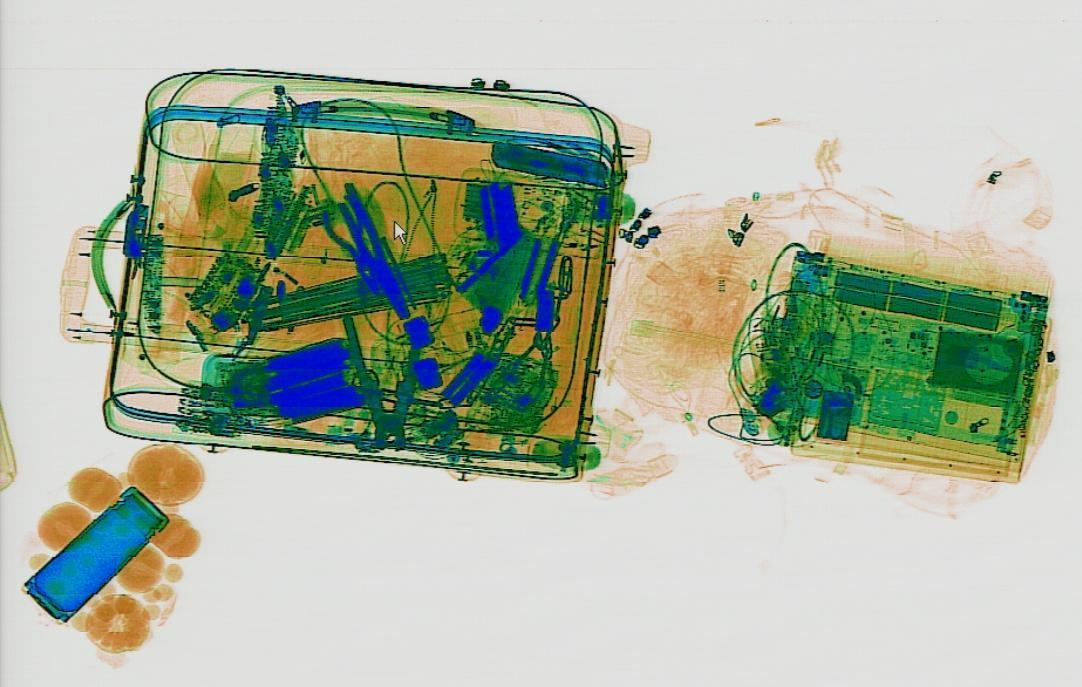Pliers: (333, 186, 422, 321), (339, 313, 425, 449), (318, 193, 387, 296)
